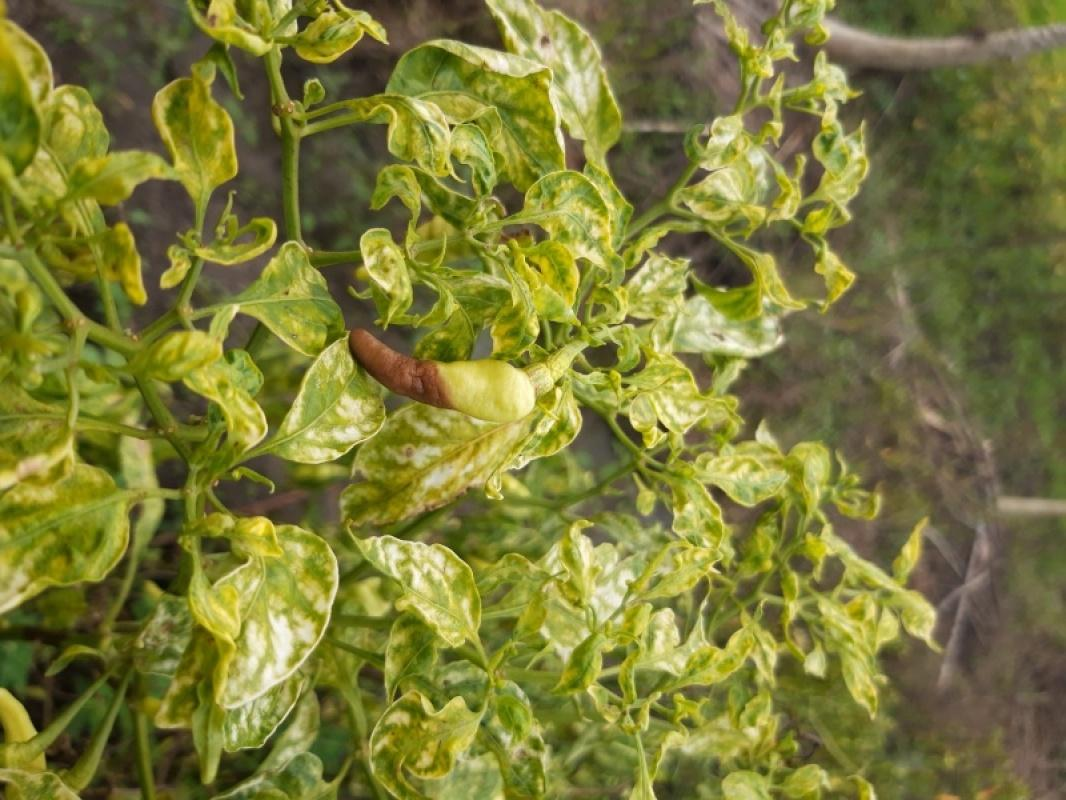antraknosa: (345, 328, 543, 424)
